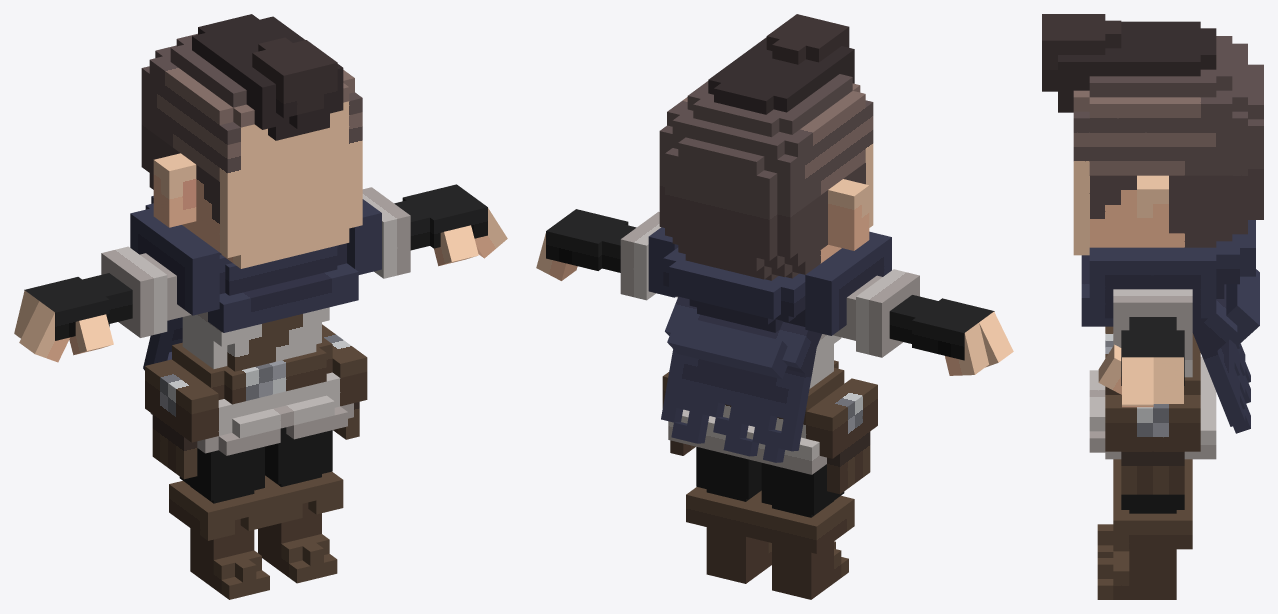
File: Hunter_01.gltf
3 renders of one model, left to right at view 1: azimuth 30°, elevation 25°; view 2: azimuth 150°, elevation 25°; view 3: azimuth 270°, elevation 25°, orthographic. The views are drawn at different scales.
Parts seen in each view (by area): view 1: Model (×13); view 2: Model (×13); view 3: Model (×9).
Part boxes in pixels (x1,y1,x2,y2): Model (×13): [14, 14, 507, 599]; Model (×13): [536, 14, 1013, 599]; Model (×9): [1042, 14, 1263, 599].
Bounding box in the file's own units: 2.19 × 2.38 × 0.875.
8 materials, 8 textured.
